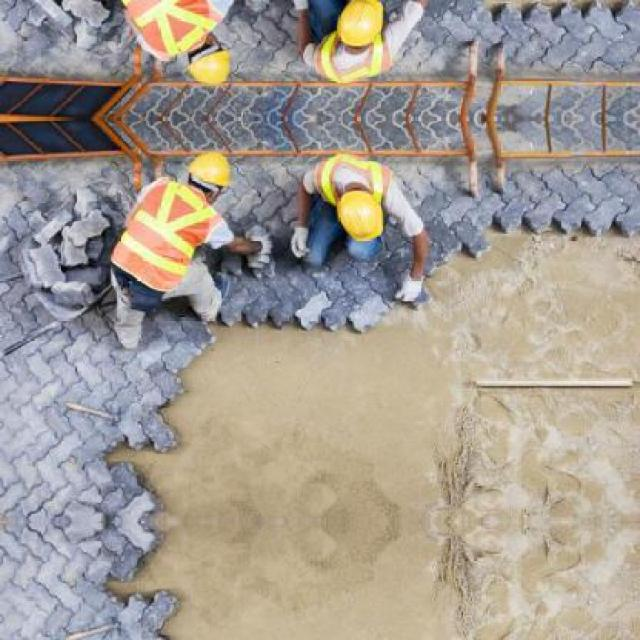helmet: (182, 146, 236, 205), (182, 29, 236, 88), (332, 186, 385, 242), (332, 0, 386, 49)
